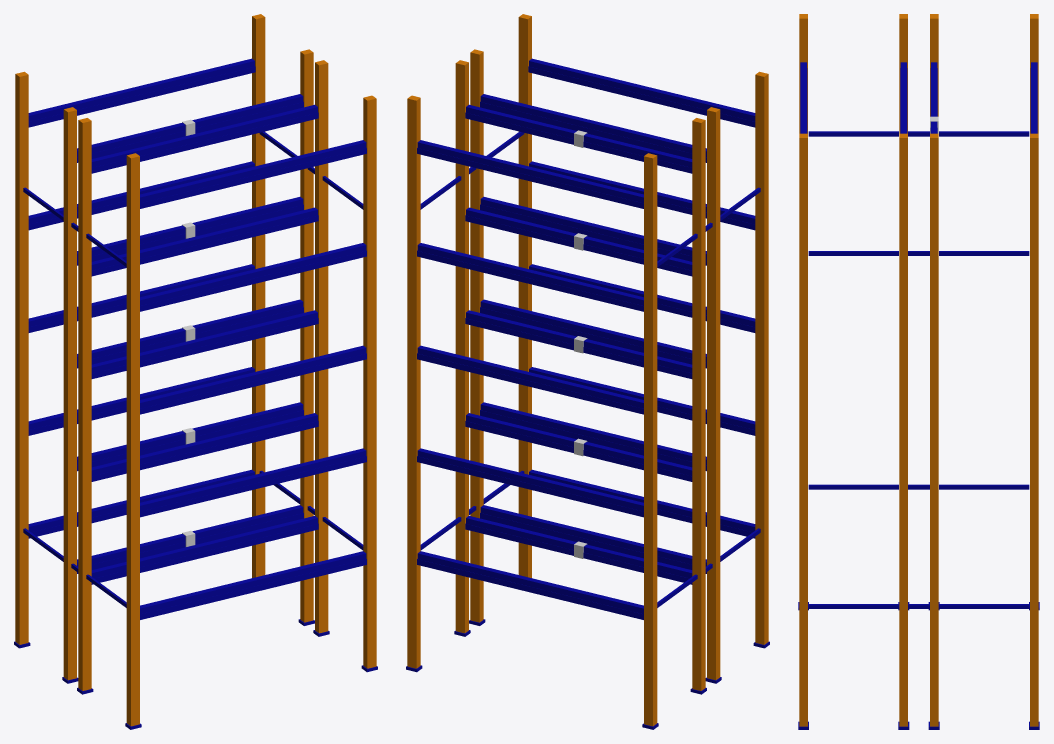
Rendered from high-duty-C27-5-pair.glb.
The picture shows the model from 3 angles, left to right: view 1: azimuth 30°, elevation 25°; view 2: azimuth 150°, elevation 25°; view 3: azimuth 270°, elevation 25°; orthographic projection. The views are drawn at different scales.
Parts seen in each view (by area): view 1: group2_geometry_0, group1_geometry_4, group2_geometry_4, group1_geometry_0, group2_geometry_2, group2_geometry_6, group1_geometry_2, group1_geometry_6, group2_geometry_8, group2_geometry_12, group2_geometry_20, group2_geometry_24 (+32 smaller); view 2: group1_geometry_4, group2_geometry_0, group1_geometry_0, group2_geometry_4, group1_geometry_6, group1_geometry_2, group2_geometry_6, group2_geometry_2, group1_geometry_10, group1_geometry_15, group1_geometry_25, group1_geometry_30 (+32 smaller); view 3: group1_geometry_2, group1_geometry_6, group2_geometry_2, group2_geometry_6, group1_geometry_4, group2_geometry_0, group2_geometry_4, group1_geometry_0, group1_geometry_34, group2_geometry_29, group1_geometry_33, group2_geometry_28 (+8 smaller).
Part boxes in pixels (bbox=[...]): group2_geometry_0: bbox=[126, 153, 139, 726]; group1_geometry_4: bbox=[15, 71, 28, 644]; group2_geometry_4: bbox=[78, 118, 91, 690]; group1_geometry_0: bbox=[63, 107, 76, 680]; group2_geometry_2: bbox=[363, 95, 376, 668]; group2_geometry_6: bbox=[315, 60, 328, 633]; group1_geometry_2: bbox=[300, 49, 313, 622]; group1_geometry_6: bbox=[252, 14, 265, 577]; group2_geometry_8: bbox=[140, 551, 366, 614]; group2_geometry_12: bbox=[140, 448, 366, 511]; group2_geometry_20: bbox=[140, 243, 366, 305]; group2_geometry_24: bbox=[140, 140, 366, 203]; group1_geometry_4: bbox=[644, 153, 657, 726]; group2_geometry_0: bbox=[755, 71, 768, 644]; group1_geometry_0: bbox=[692, 118, 705, 690]; group2_geometry_4: bbox=[707, 107, 720, 680]; group1_geometry_6: bbox=[407, 95, 420, 668]; group1_geometry_2: bbox=[455, 60, 468, 633]; group2_geometry_6: bbox=[470, 49, 483, 622]; group2_geometry_2: bbox=[518, 14, 531, 577]; group1_geometry_10: bbox=[417, 551, 643, 614]; group1_geometry_15: bbox=[417, 448, 643, 511]; group1_geometry_25: bbox=[417, 243, 643, 305]; group1_geometry_30: bbox=[417, 140, 643, 203]; group1_geometry_2: bbox=[930, 133, 938, 726]; group1_geometry_6: bbox=[1030, 133, 1038, 726]; group2_geometry_2: bbox=[799, 133, 807, 726]; group2_geometry_6: bbox=[899, 133, 907, 726]; group1_geometry_4: bbox=[1030, 14, 1038, 133]; group2_geometry_0: bbox=[799, 14, 807, 133]; group2_geometry_4: bbox=[899, 14, 907, 133]; group1_geometry_0: bbox=[930, 14, 938, 116]; group1_geometry_34: bbox=[939, 131, 1029, 136]; group2_geometry_29: bbox=[808, 131, 898, 136]; group1_geometry_33: bbox=[939, 484, 1029, 489]; group2_geometry_28: bbox=[808, 484, 898, 489].
Bounding box in the file's own units: 2720 × 6000 × 2220.
